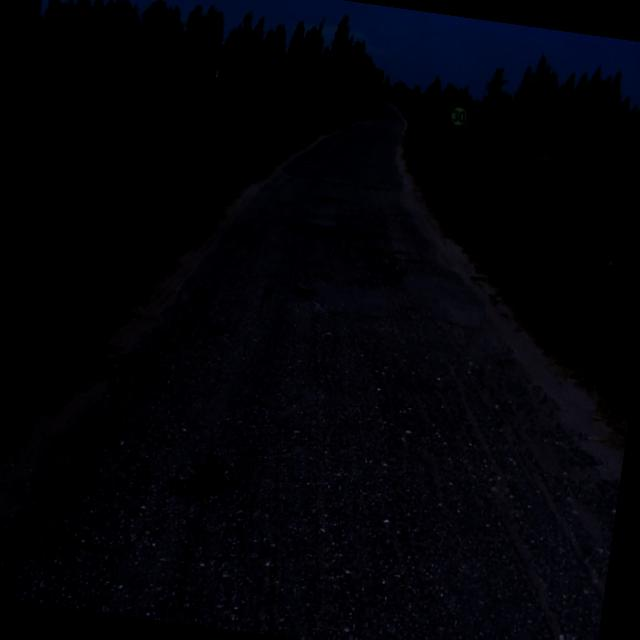road: (0, 100, 620, 640)
